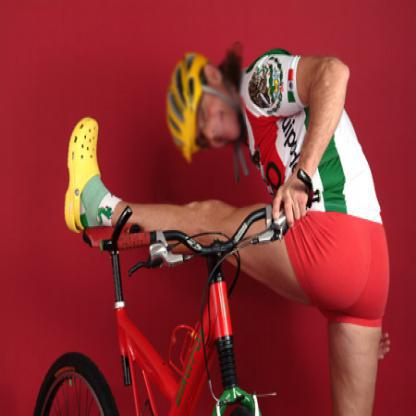Helmet: (156, 44, 251, 179)
